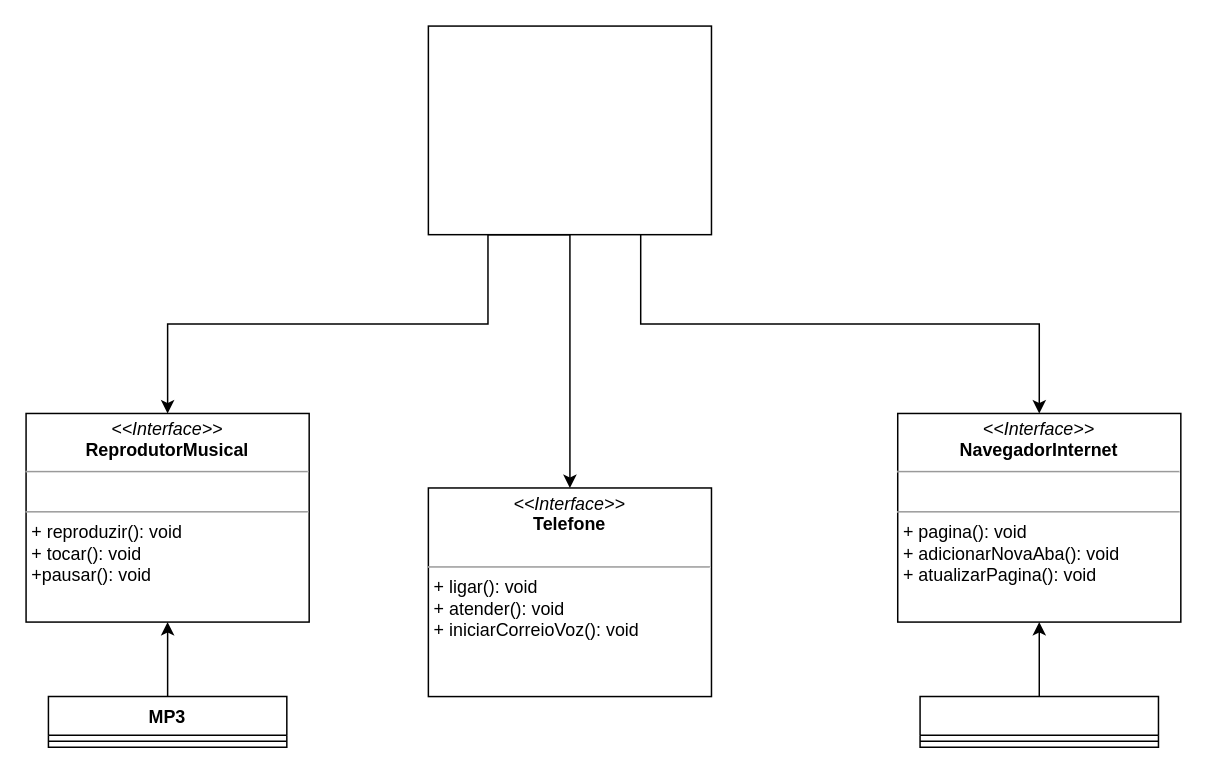
This 1207x773 diagram has some shape labels left out. Here are the shapes that lost their labels. From the top down, the centre of each, then its label:
At (x=569, y=130): "<<Interface>> AparelhoTelefonico".
At (x=1038, y=721): "Google".
